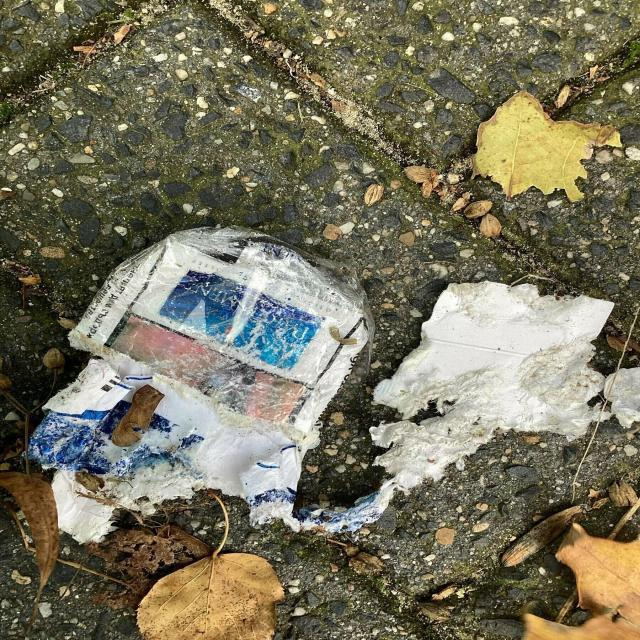Paper: (23, 217, 640, 552)
